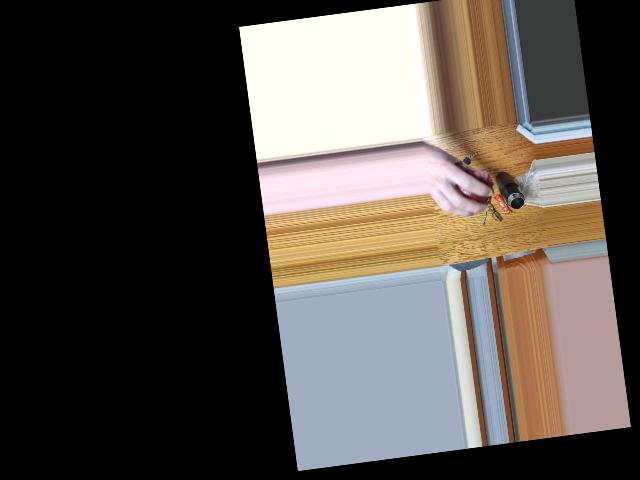onion: (449, 161, 487, 210)
